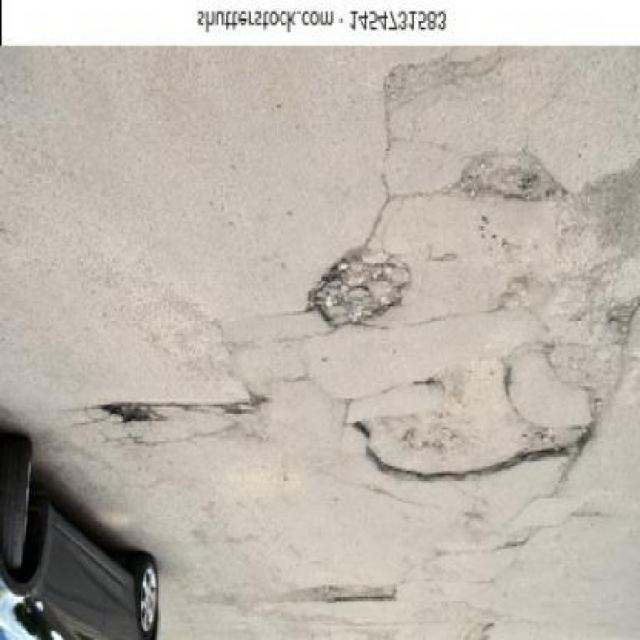Pothole: (341, 299, 640, 486), (299, 247, 422, 333), (453, 147, 571, 211), (101, 399, 174, 435)
